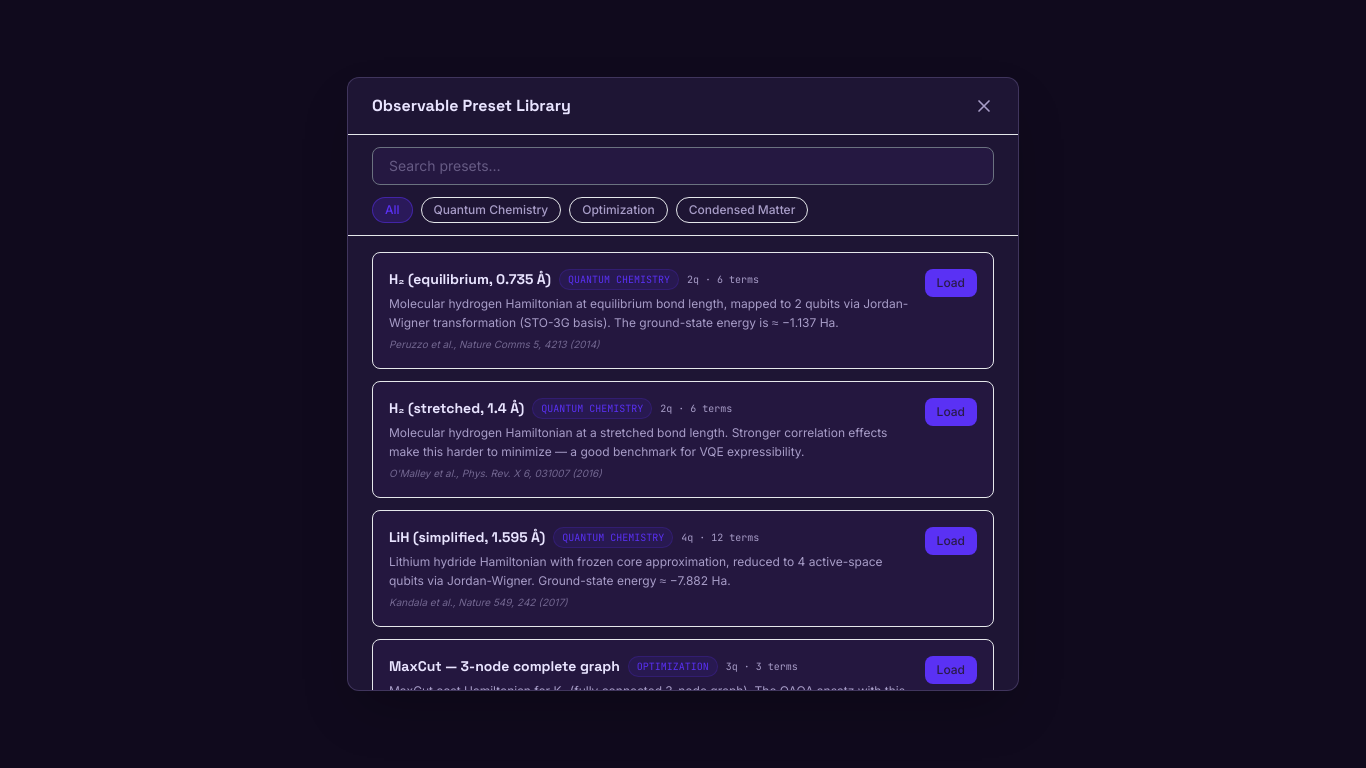
Test: ObservablePresetModal › filters by search query
This screenshot has width=1366, height=768.
Type "H₂" into the field labelled "Search presets" at (683, 166), box [372,147,994,185]
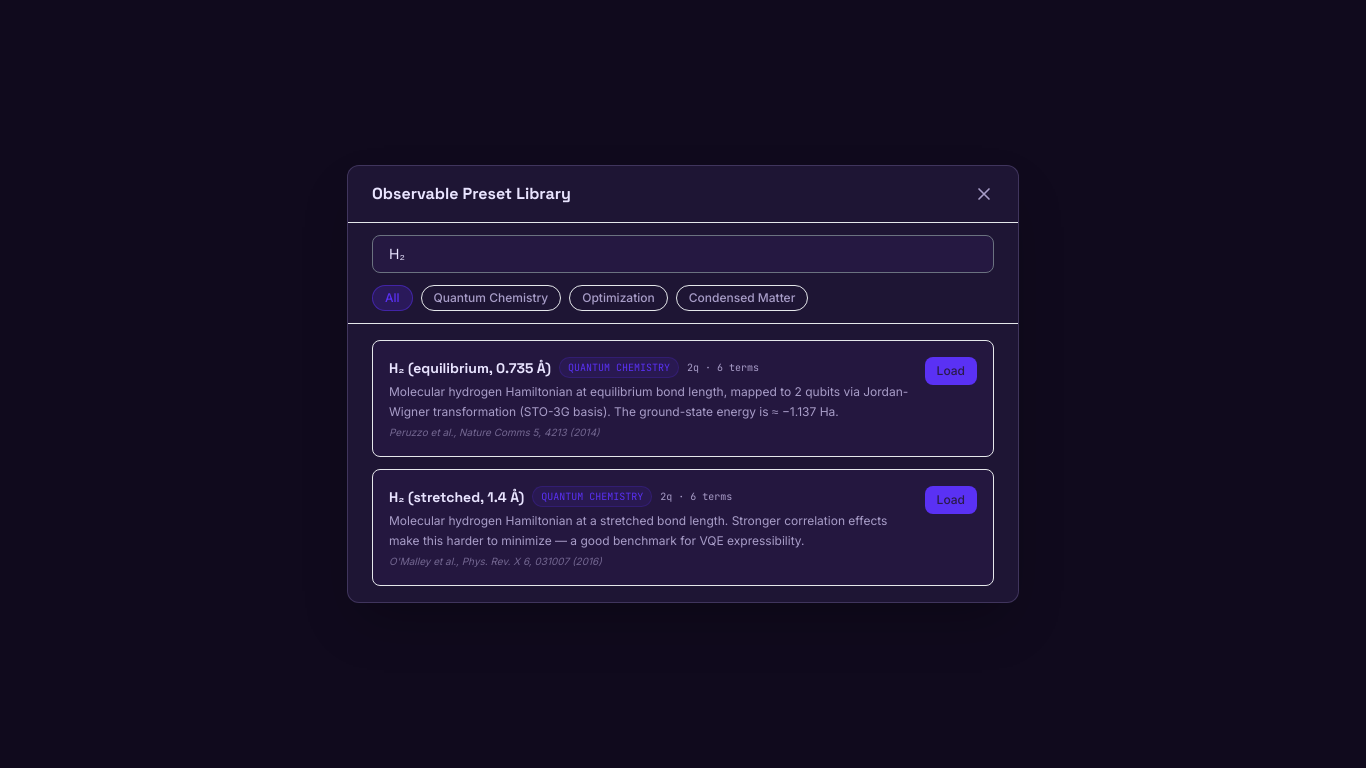
Check: the text "H₂ (equilibrium, 0.735 Å)" is shown, box [389,358,551,378]
Check: the button "MaxCut — 3-node complete graph" is gone
